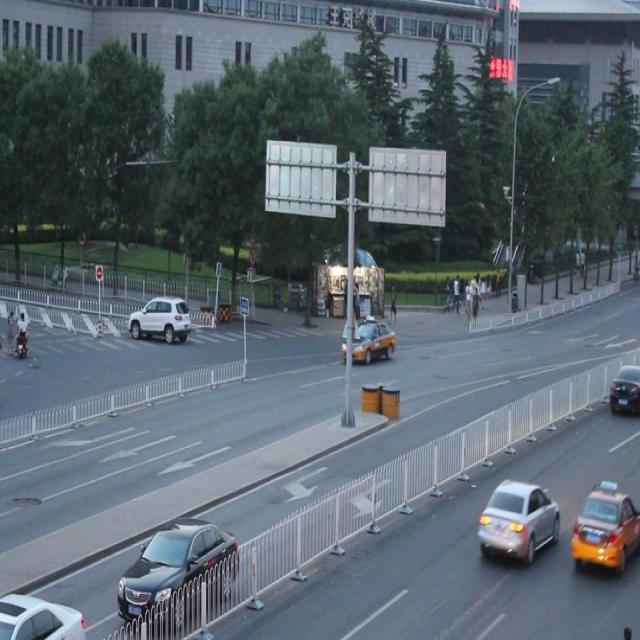car: (116, 514, 240, 618), (475, 477, 559, 562), (572, 484, 640, 570), (0, 586, 87, 640), (128, 298, 191, 343), (340, 317, 394, 363), (608, 362, 640, 411)
